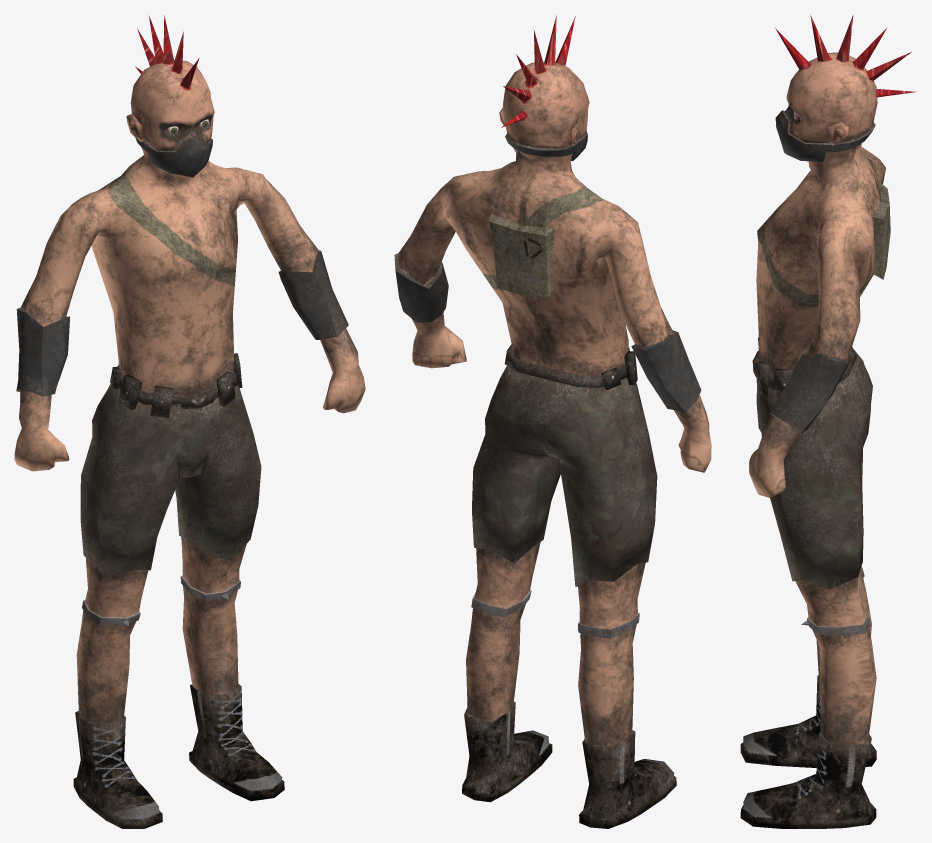
The model's file is Anim_idle_npc2.0055.obj.
3 views of the same model, side by side, from view 1: azimuth 30°, elevation 25°; view 2: azimuth 150°, elevation 25°; view 3: azimuth 270°, elevation 25° (orthographic). The views are drawn at different scales.
Visible parts, largest first — view 1: polySurface1; view 2: polySurface1; view 3: polySurface1.
Part boxes in pixels (<box>): polySurface1: <box>14,14,365,828</box>; polySurface1: <box>394,15,711,828</box>; polySurface1: <box>740,14,915,828</box>.
Size of the model in its own units: 4.49 by 10.18 by 2.09.
Materials: 2 (2 with a texture image).
